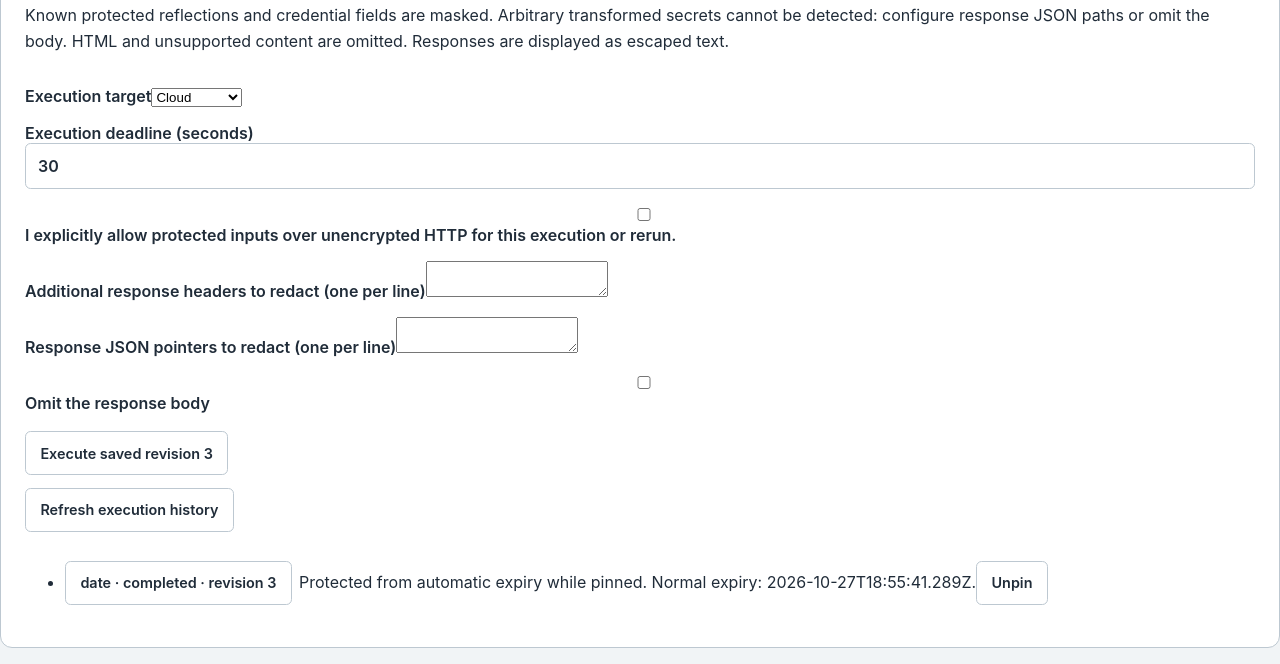
confirms late unpin and clears expired selection immediately
The image size is (1280, 664).
(page scrolled)
expect the button with aria-label "Unpin evidence execution-a" is shown: met, box [976, 561, 1048, 605]
Click the button "date · completed · revision 3".
click(178, 583)  # box [65, 561, 292, 605]
(page scrolled)
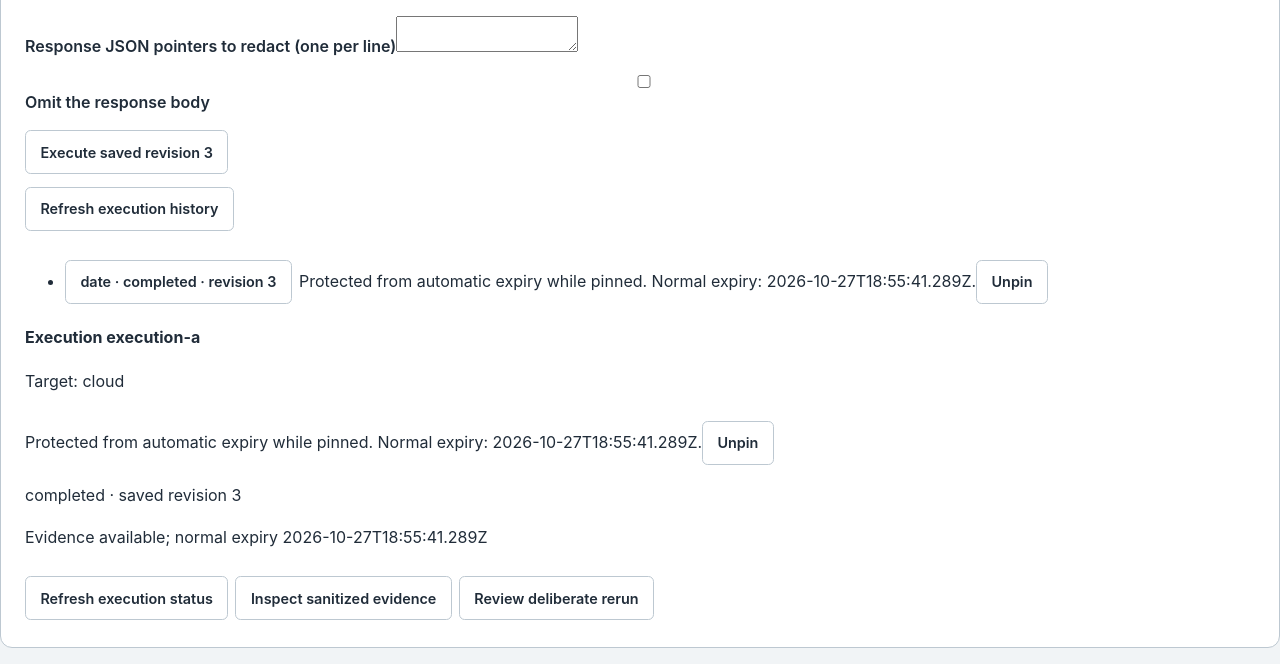
expect the heading "Execution execution-a" is shown: met, box [25, 327, 200, 347]
Click the button with aria-label "Unpin evidence execution-a".
click(738, 442)  # box [702, 420, 774, 464]
(page scrolled)
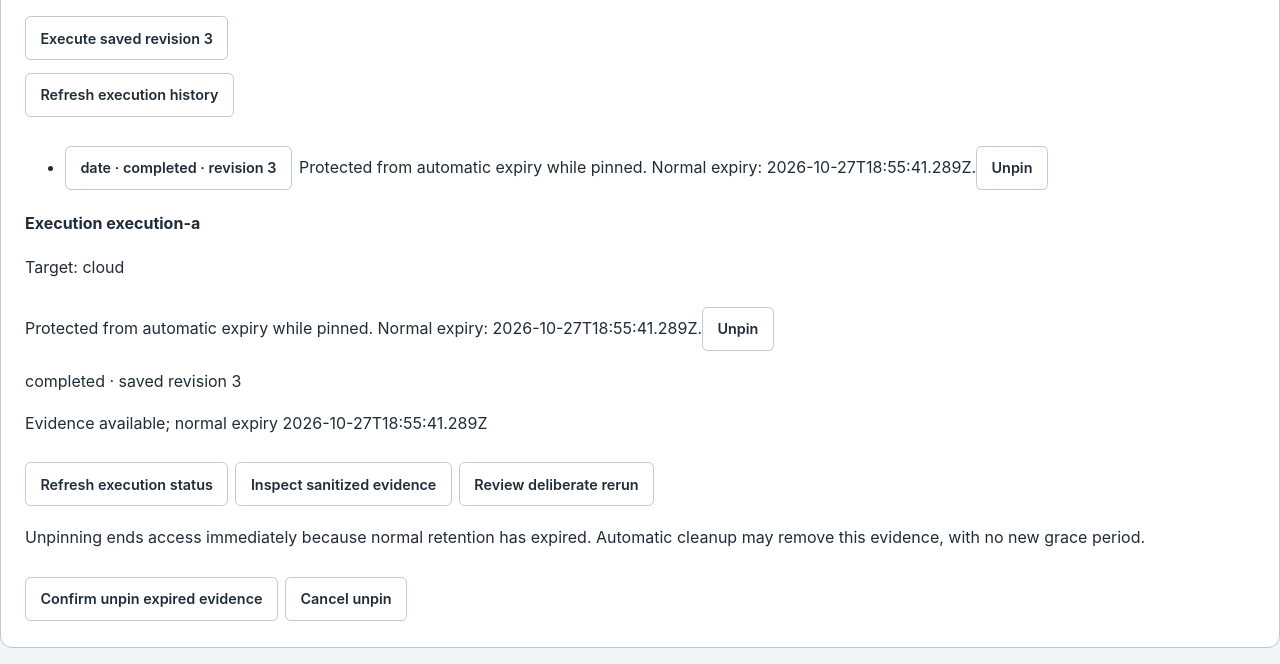
expect the dialog is shown: met, box [25, 525, 1255, 623]
Click the button "Confirm unpin expired evidence".
click(151, 599)  # box [25, 577, 278, 621]
(page scrolled)
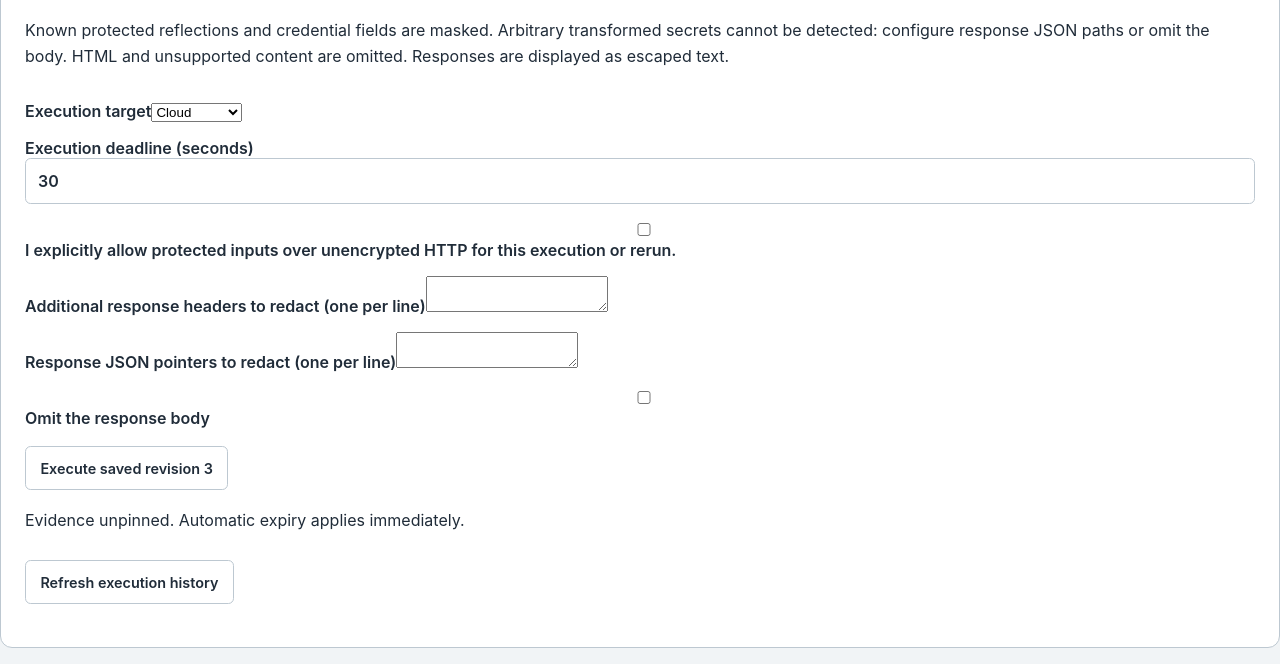
expect the text "Evidence unpinned. Automatic expiry applies immediately." is shown: met, box [25, 510, 465, 530]
expect the heading "Execution execution-a" is gone: met
